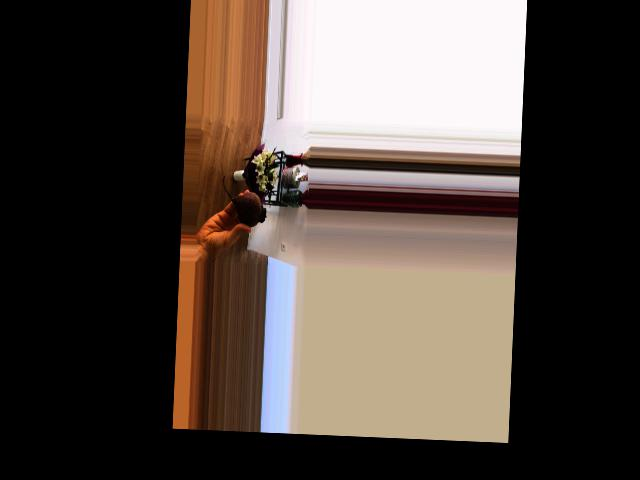beet: (221, 174, 267, 227)
